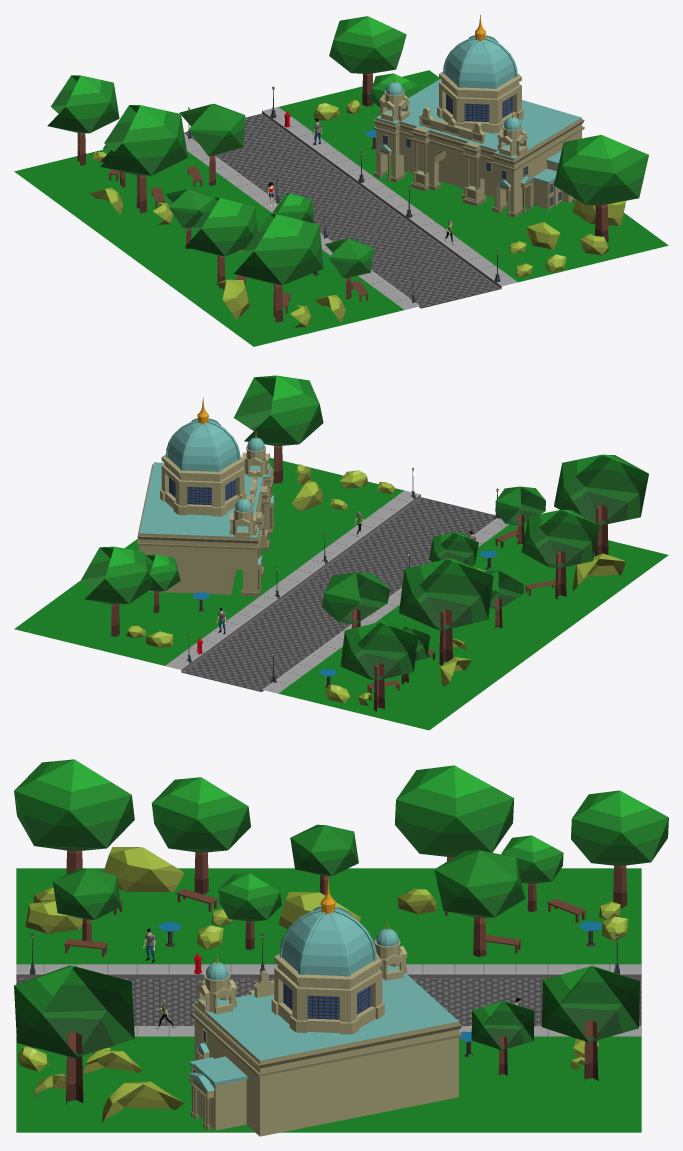
File: berliner_dom.glb
The picture shows the model from 3 angles, top to bottom: view 1: azimuth 30°, elevation 25°; view 2: azimuth 150°, elevation 25°; view 3: azimuth 270°, elevation 25°; orthographic projection. The views are drawn at different scales.
Visible parts, largest first — view 1: Road1, 1, Tree.061, Tree.010, Tree.001, Tree.063, Tree.011, Tree.004, Tree.008, Tree, Tree.002, Tree.003 (+4 smaller); view 2: Road1, 1, Tree.010, Tree.001, Tree.061, Tree.011, Tree.004, Tree.063, Tree.008, Tree, Tree.003, Tree.002 (+3 smaller); view 3: Road1, 1, Tree.061, Tree.001, Tree.010, Tree.063, Tree.011, Tree.004, Tree.008, Tree, Tree.002, Tree.062 (+9 smaller).
Boxes of the visible parts, bbox=[...] form: Road1: bbox=[14, 70, 668, 346]; 1: bbox=[373, 14, 584, 217]; Tree.061: bbox=[554, 135, 648, 241]; Tree.010: bbox=[100, 105, 187, 213]; Tree.001: bbox=[234, 213, 323, 322]; Tree.063: bbox=[329, 16, 406, 106]; Tree.011: bbox=[47, 75, 119, 165]; Tree.004: bbox=[185, 197, 257, 288]; Tree.008: bbox=[179, 103, 245, 185]; Tree: bbox=[325, 238, 373, 298]; Tree.002: bbox=[165, 188, 213, 248]; Tree.003: bbox=[272, 193, 314, 222]; Road1: bbox=[14, 457, 668, 730]; 1: bbox=[137, 397, 274, 596]; Tree.010: bbox=[399, 558, 493, 665]; Tree.001: bbox=[554, 454, 648, 556]; Tree.061: bbox=[234, 375, 323, 483]; Tree.011: bbox=[340, 622, 417, 711]; Tree.004: bbox=[521, 509, 599, 599]; Tree.063: bbox=[81, 546, 153, 636]; Tree.008: bbox=[321, 572, 390, 628]; Tree: bbox=[495, 486, 545, 545]; Tree.003: bbox=[429, 532, 478, 566]; Tree.002: bbox=[484, 570, 523, 628]; Road1: bbox=[16, 868, 641, 1132]; 1: bbox=[188, 879, 462, 1136]; Tree.061: bbox=[14, 965, 134, 1105]; Tree.001: bbox=[14, 759, 134, 874]; Tree.010: bbox=[395, 765, 514, 861]; Tree.063: bbox=[542, 965, 639, 1081]; Tree.011: bbox=[571, 790, 668, 908]; Tree.004: bbox=[151, 777, 250, 894]; Tree.008: bbox=[434, 850, 525, 956]; Tree: bbox=[52, 868, 121, 941]; Tree.002: bbox=[290, 824, 358, 895]; Tree.062: bbox=[471, 1001, 534, 1075].
Size of the model in its own units: 40.82 by 15.14 by 41.89.
Materials: 4 (4 with a texture image).
